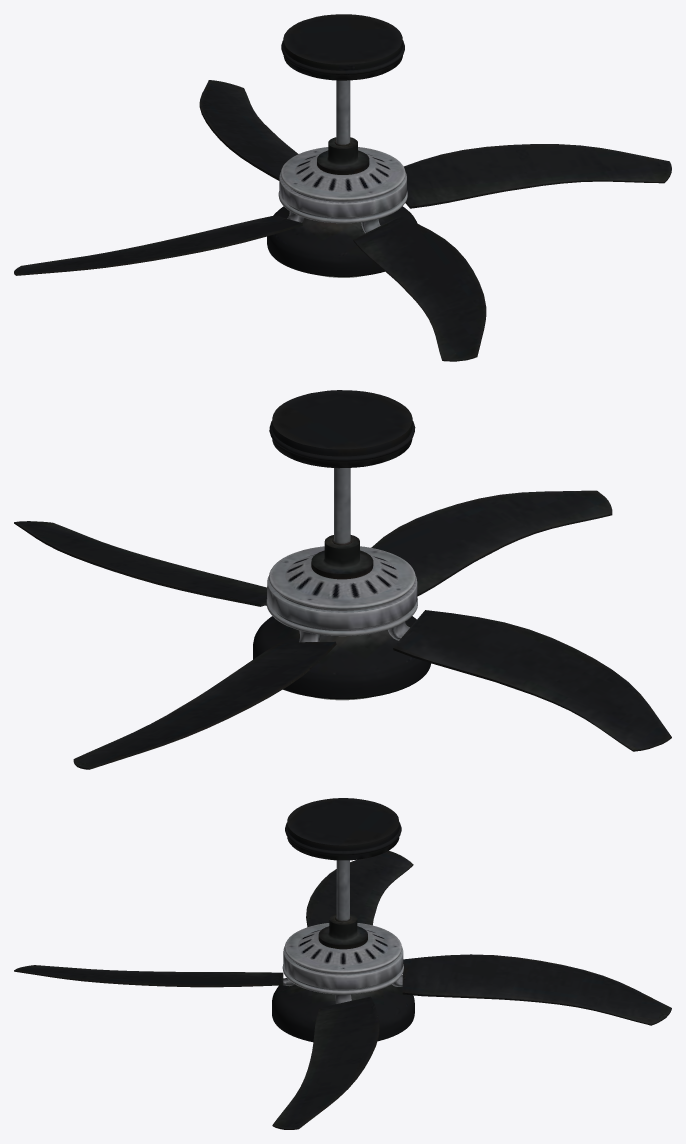
The model's file is ceiling_fan.glb.
3 renders of one model, top to bottom at view 1: azimuth 30°, elevation 25°; view 2: azimuth 150°, elevation 25°; view 3: azimuth 270°, elevation 25°, orthographic. The views are drawn at different scales.
Parts seen in each view (by area): view 1: ceiling_fan; view 2: ceiling_fan; view 3: ceiling_fan.
Part boxes in pixels (left/top/right/bottom): ceiling_fan: left=14, top=14, right=671, bottom=361; ceiling_fan: left=14, top=390, right=671, bottom=769; ceiling_fan: left=14, top=798, right=671, bottom=1129.
Size of the model in its own units: 1.46 by 0.5163 by 1.46.
1 material, 1 textured.
